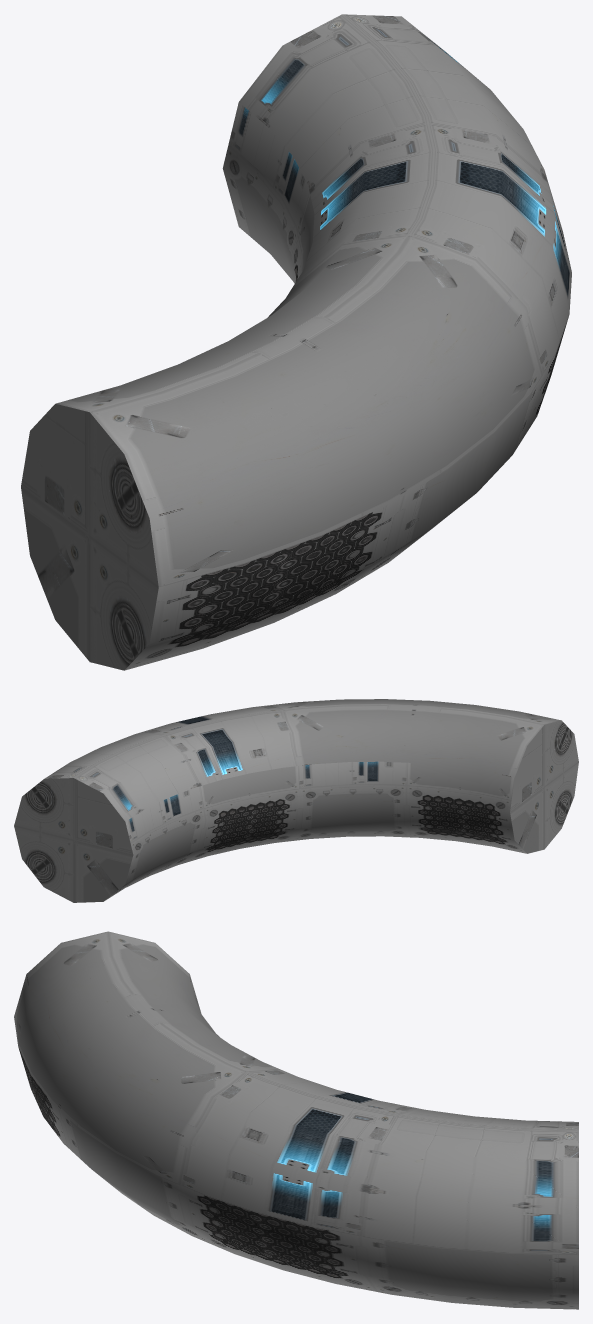
The model's file is SM_Pipe6c.fbx.
3 views of the same model, one above another, from view 1: azimuth 30°, elevation 25°; view 2: azimuth 150°, elevation 25°; view 3: azimuth 270°, elevation 25° (orthographic). The views are drawn at different scales.
Parts seen in each view (by area): view 1: SM_Pipe6c_LOD0; view 2: SM_Pipe6c_LOD0; view 3: SM_Pipe6c_LOD0.
Boxes of the visible parts, x1=… form: SM_Pipe6c_LOD0: x1=21, y1=14, x2=571, y2=670; SM_Pipe6c_LOD0: x1=14, y1=699, x2=578, y2=902; SM_Pipe6c_LOD0: x1=14, y1=931, x2=578, y2=1309.
Size of the model in its own units: 120 by 120 by 40.
1 material, 1 textured.
